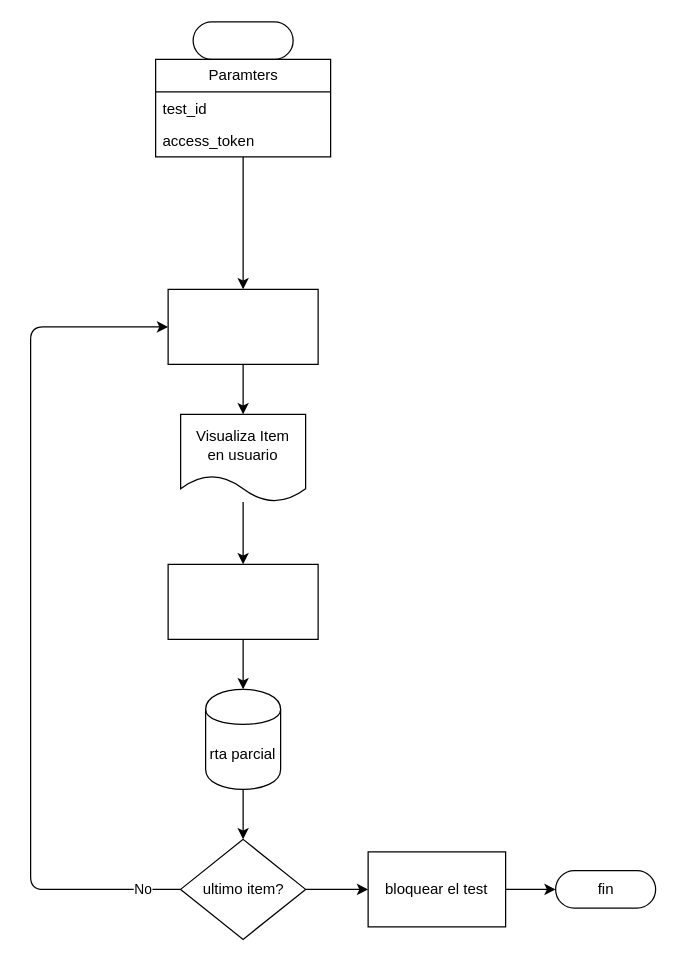
Image size: 678x961. Some labels were removed from this diagram. The shapes that lost their labels are listed below. From the top down, each one's centre as x and y in pixels, then its label:
At pixel 242 40: "Inicio".
At pixel 242 326: "Obtener ultimo item sin responder".
At pixel 242 601: "Usuario responde".
